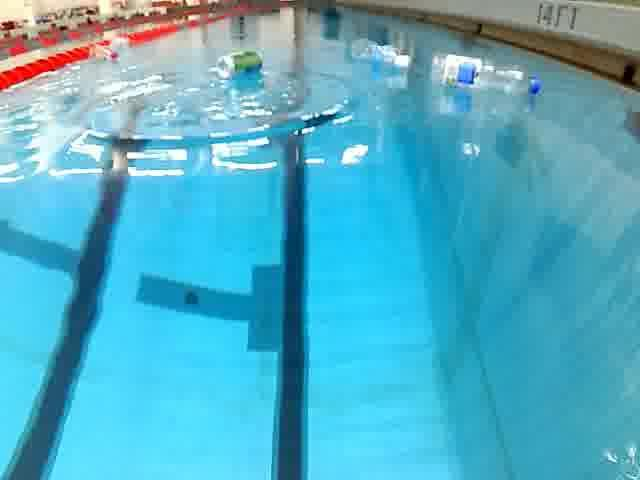Bottle: (424, 46, 546, 104), (345, 34, 415, 76)
Can: (208, 47, 266, 86)
